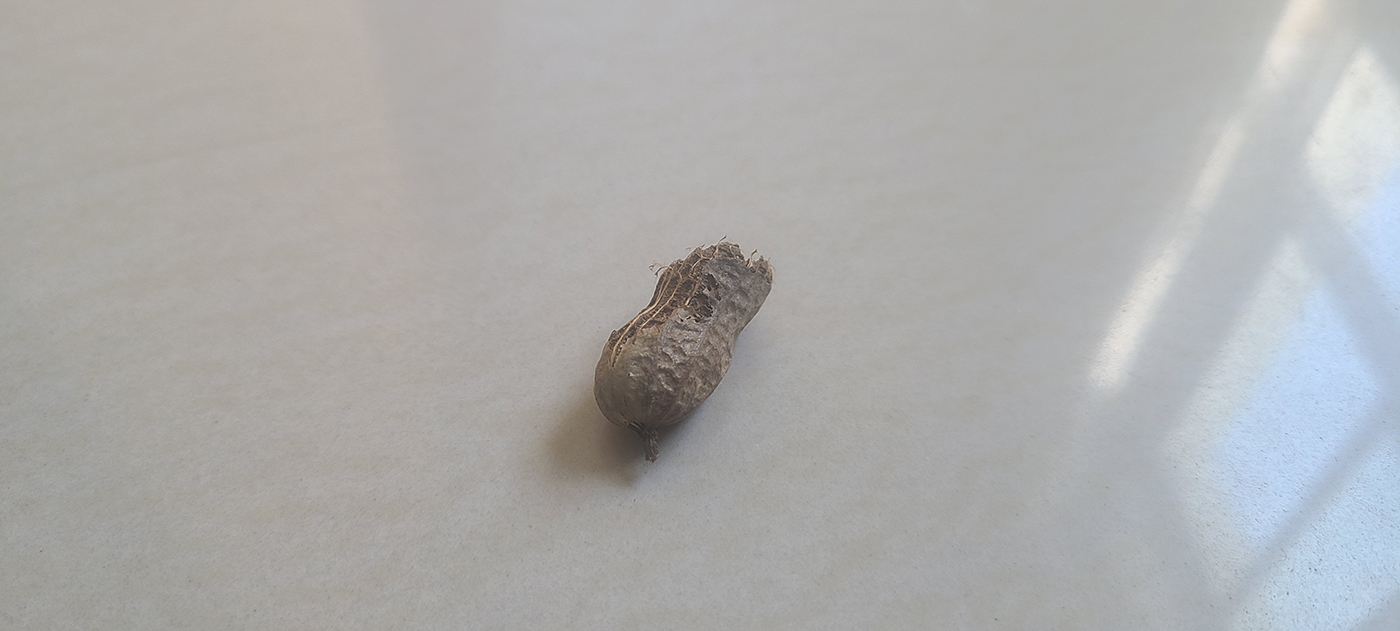l: (594, 241, 776, 459)
